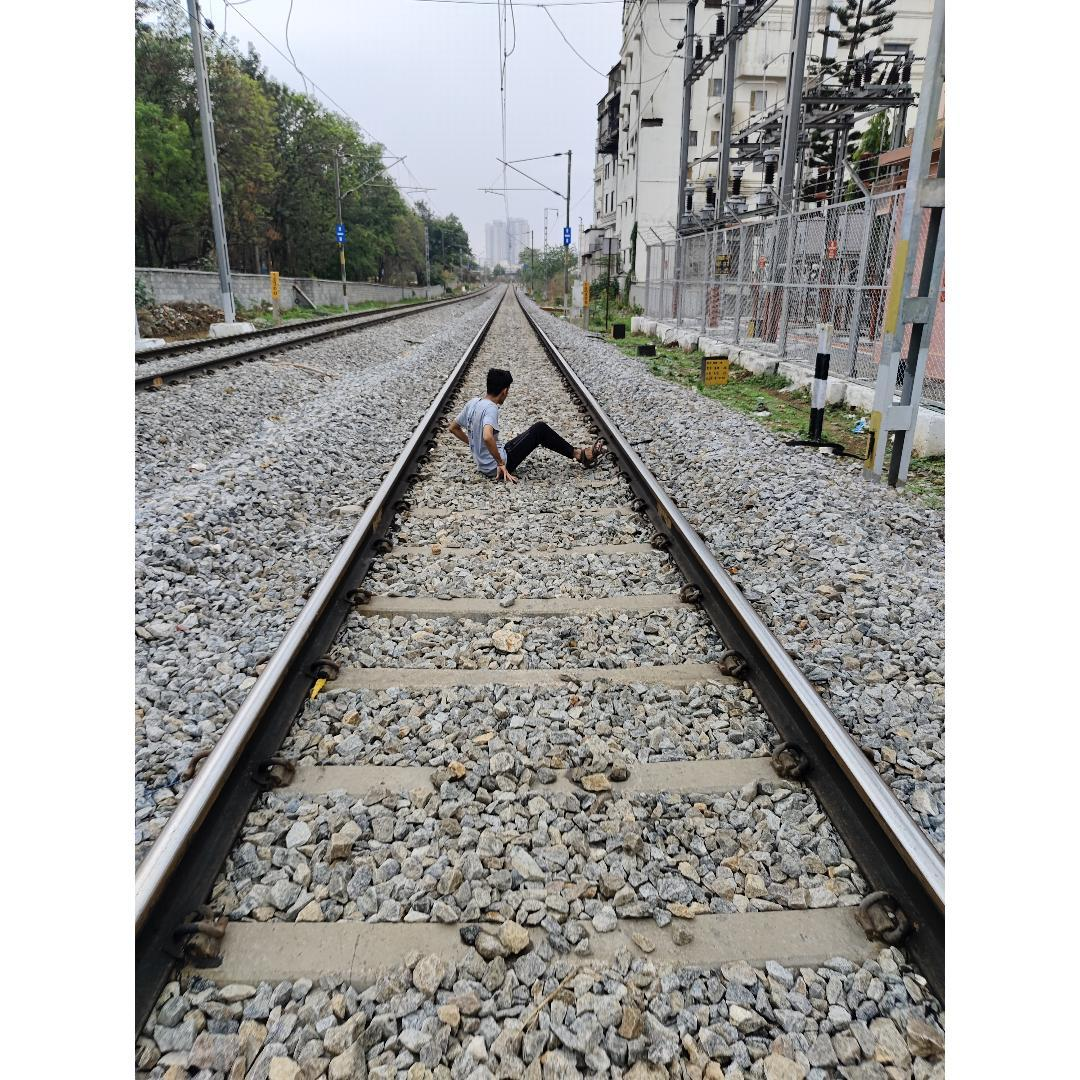sitting: (447, 366, 608, 484)
track: (135, 271, 945, 1080)
